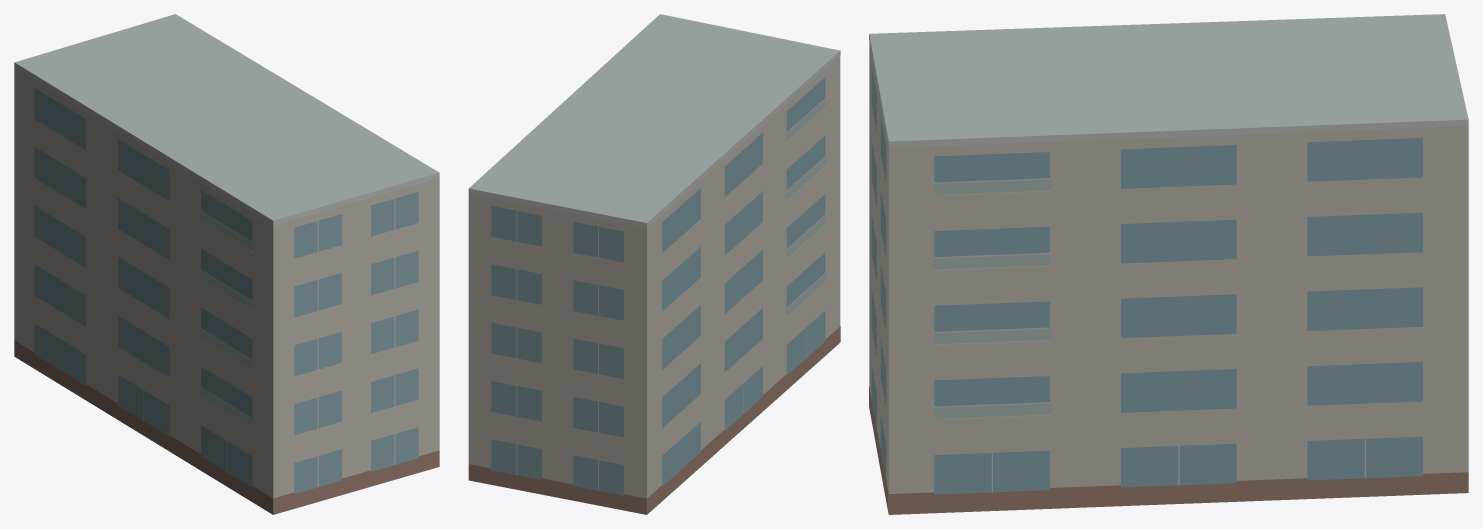
The model's file is survey-upis-32982775.glb.
The picture shows the model from 3 angles, left to right: view 1: azimuth 30°, elevation 25°; view 2: azimuth 150°, elevation 25°; view 3: azimuth 270°, elevation 25°; orthographic projection. The views are drawn at different scales.
Parts seen in each view (by area): view 1: survey-upis-32982775.tmp; view 2: survey-upis-32982775.tmp; view 3: survey-upis-32982775.tmp.
Boxes of the visible parts, x1=… form: survey-upis-32982775.tmp: x1=14, y1=14, x2=439, y2=514; survey-upis-32982775.tmp: x1=468, y1=14, x2=840, y2=514; survey-upis-32982775.tmp: x1=869, y1=14, x2=1468, y2=514.
Bounding box in the file's own units: 10.41 × 14.2 × 20.67.
